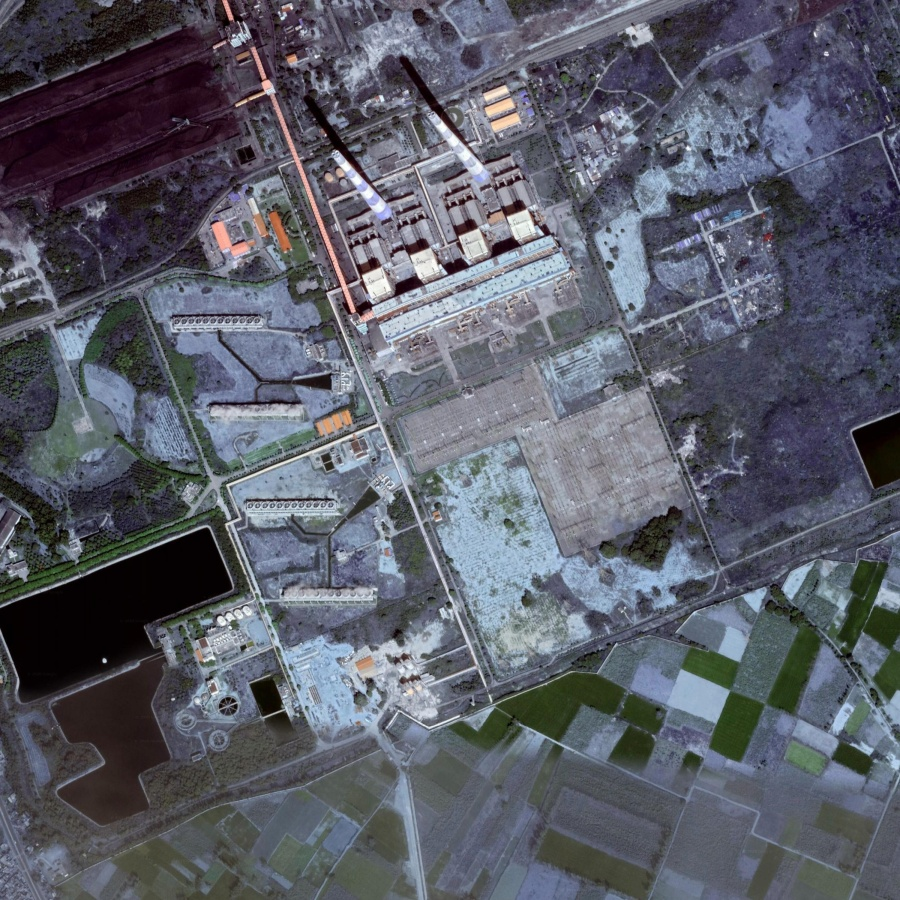PowerPlant: (293, 48, 530, 254)
